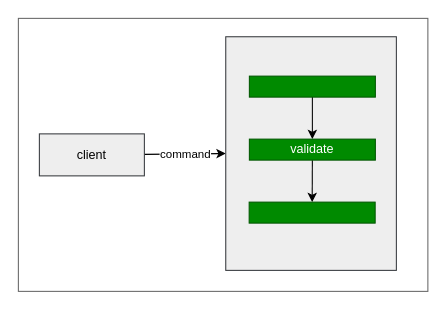
This 446x310 diagram has some shape labels left out. The centre of each missing label's shape, as x and y in pixels:
"execute" belongs at point (311, 212).
"expect" belongs at point (311, 86).
